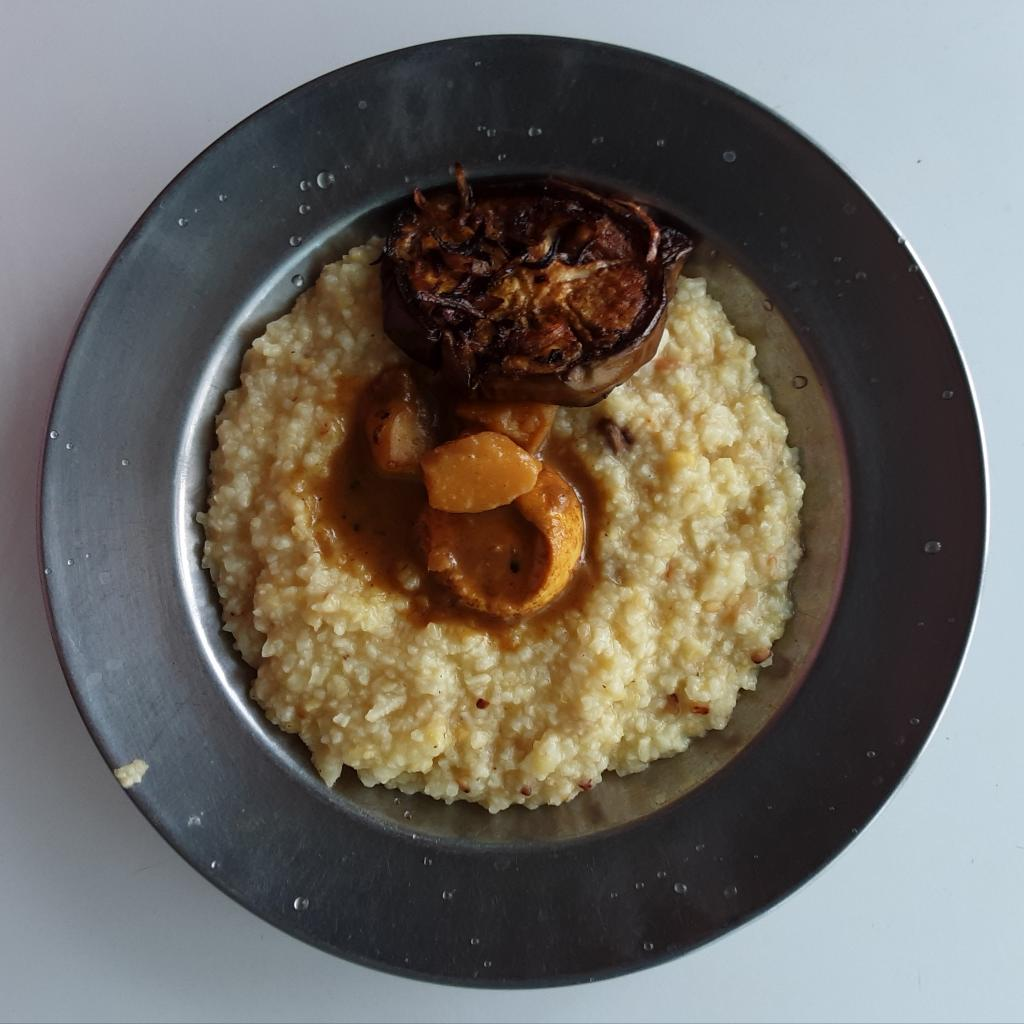begun-vaji: (376, 166, 694, 389)
egg-boiled: (426, 455, 587, 620)
khichuri: (190, 236, 808, 817)
potato: (348, 368, 557, 515)
